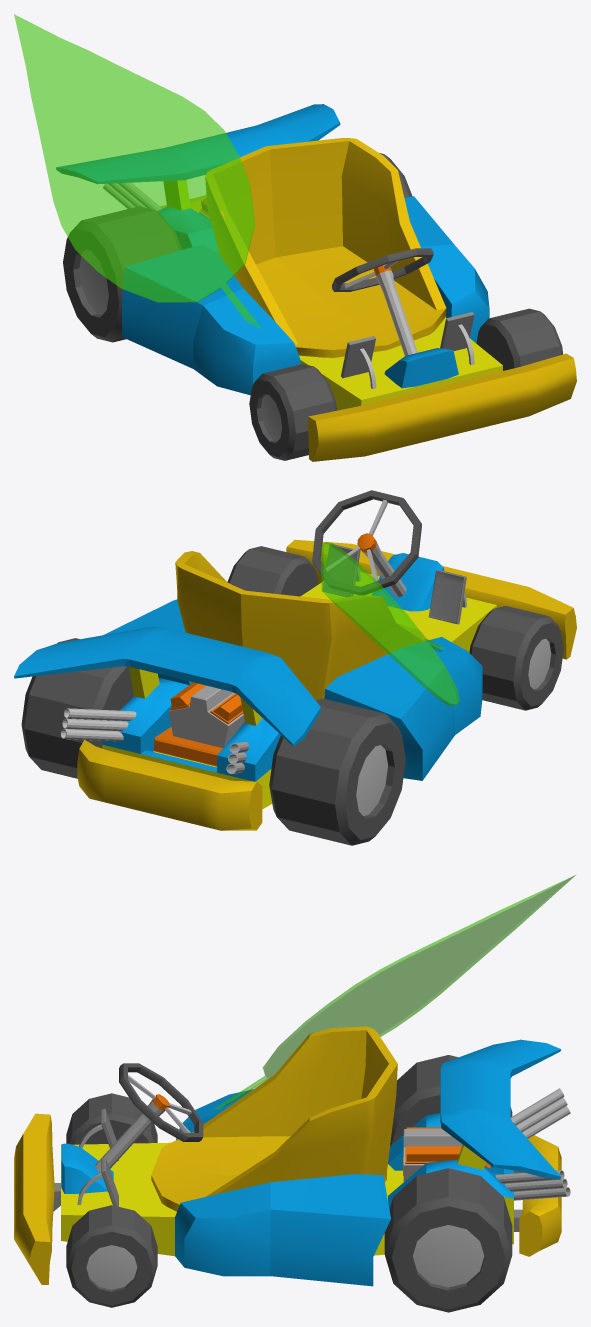
Rendered from KartOneLeaf.fbx.
3 views of the same model, one above another, from view 1: azimuth 30°, elevation 25°; view 2: azimuth 150°, elevation 25°; view 3: azimuth 270°, elevation 25° (orthographic). The views are drawn at different scales.
Visible parts, largest first — view 1: frame, leaves3, seat, wheel_driving_right, wheel_turning_right, wheel_turning_left, steeringWheel, steeringColumnBase, pCube1 (×2); view 2: frame, seat, wheel_driving_right, leaves3, wheel_turning_right, wheel_driving_left, steeringWheel, engine, wheel_turning_left, pCube1 (×2), steeringColumnBase, engineSupport (+3 smaller); view 3: frame, seat, wheel_driving_left, leaves3, wheel_turning_left, steeringWheel, wheel_driving_right, wheel_turning_right, engine, steeringColumnBase, pCylinder19, pCylinder11.
Boxes of the visible parts, x1,y1,x2,y2 form: frame: (56, 104, 576, 461); leaves3: (14, 14, 262, 329); seat: (205, 138, 446, 357); wheel_driving_right: (63, 206, 181, 342); wheel_turning_right: (249, 364, 336, 460); wheel_turning_left: (476, 308, 563, 370); steeringWheel: (332, 248, 433, 355); steeringColumnBase: (384, 348, 458, 388); pCube1 (×2): (341, 312, 474, 378); frame: (14, 539, 576, 830); seat: (175, 551, 427, 700); wheel_driving_right: (269, 698, 405, 845); leaves3: (321, 542, 459, 706); wheel_turning_right: (469, 606, 563, 710); wheel_driving_left: (21, 638, 133, 778); steeringWheel: (312, 490, 421, 597); engine: (168, 682, 244, 747); wheel_turning_left: (227, 546, 318, 596); pCube1 (×2): (322, 544, 466, 624); steeringColumnBase: (372, 553, 444, 611); engineSupport: (153, 727, 222, 766); frame: (14, 1039, 561, 1286); seat: (151, 1026, 397, 1211); wheel_driving_left: (384, 1168, 512, 1312); leaves3: (212, 875, 575, 1109); wheel_turning_left: (66, 1205, 157, 1307); steeringWheel: (95, 1063, 203, 1172); wheel_driving_right: (390, 1055, 512, 1145); wheel_turning_right: (66, 1093, 157, 1144); engine: (403, 1127, 462, 1181); steeringColumnBase: (61, 1143, 113, 1193); pCylinder19: (510, 1088, 564, 1125); pCylinder11: (505, 1178, 567, 1191).
Size of the model in its own units: 8.98 by 6.94 by 12.34.
